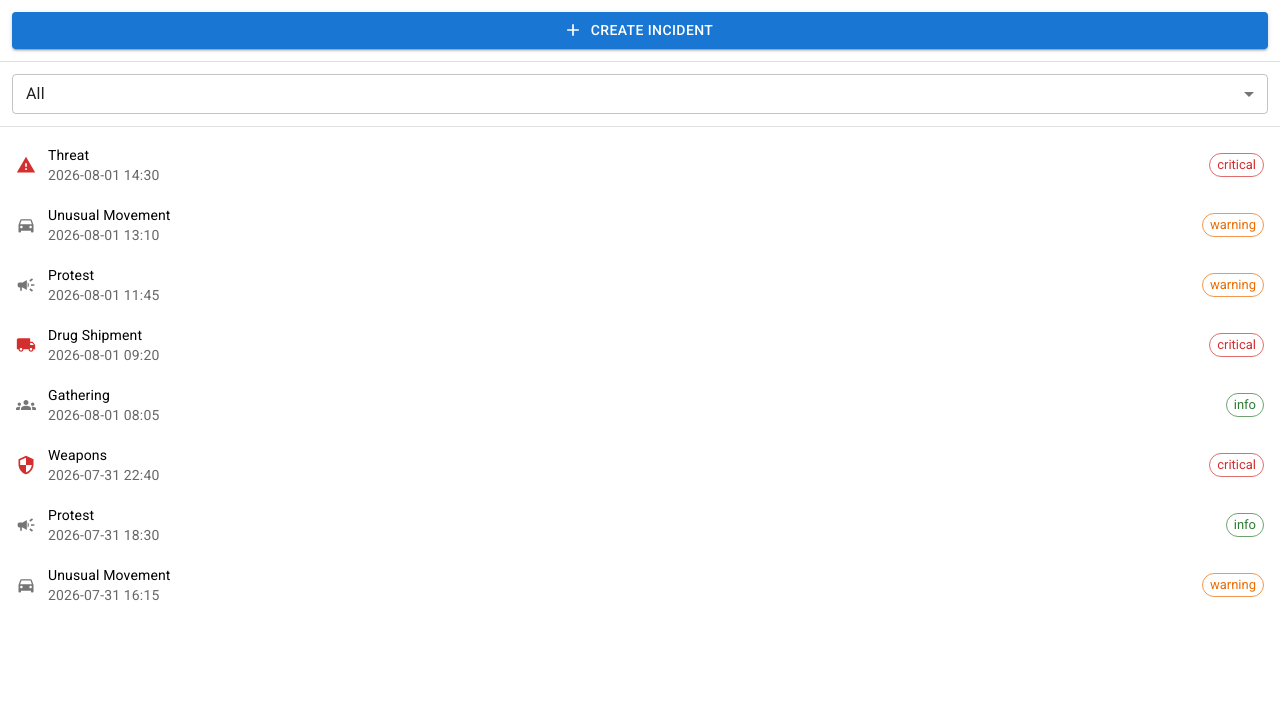
it: IncidentPanel › filters incidents by severity
Press the mouse on the dropdown named "Severity filter": (35, 94) [26,84,45,103]
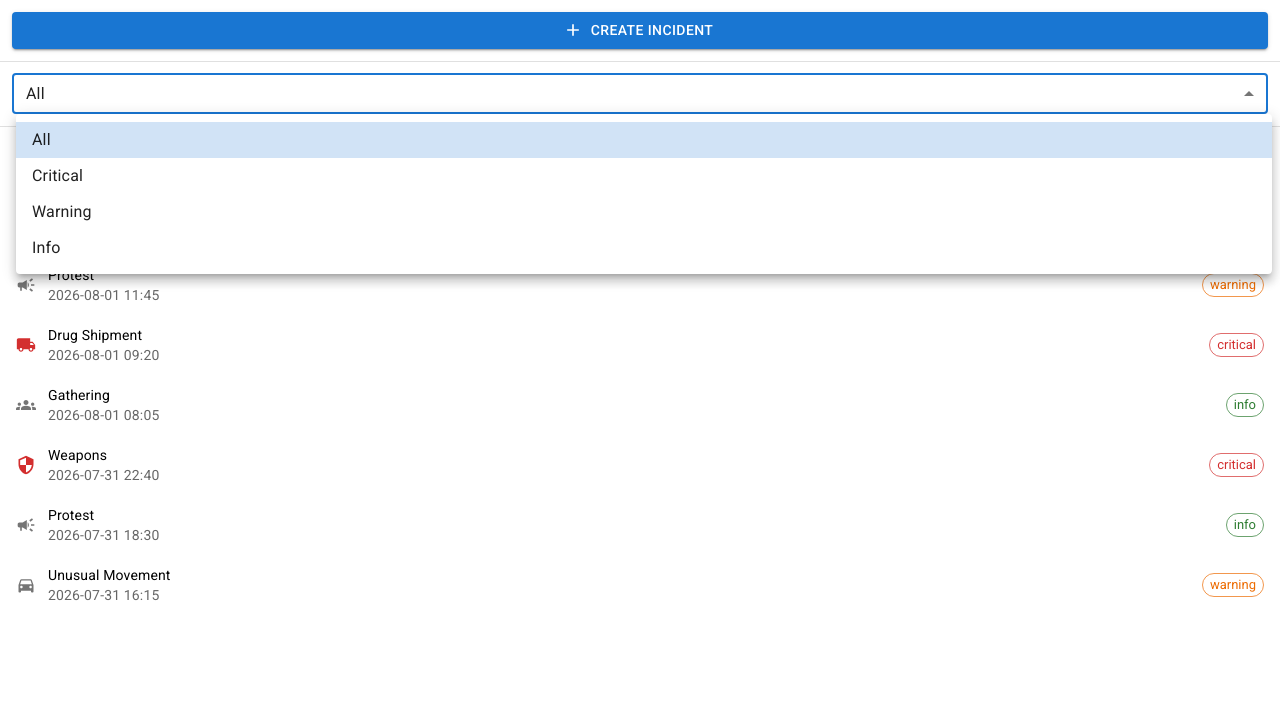
Click the option "Critical": (58, 176) [32,166,83,185]
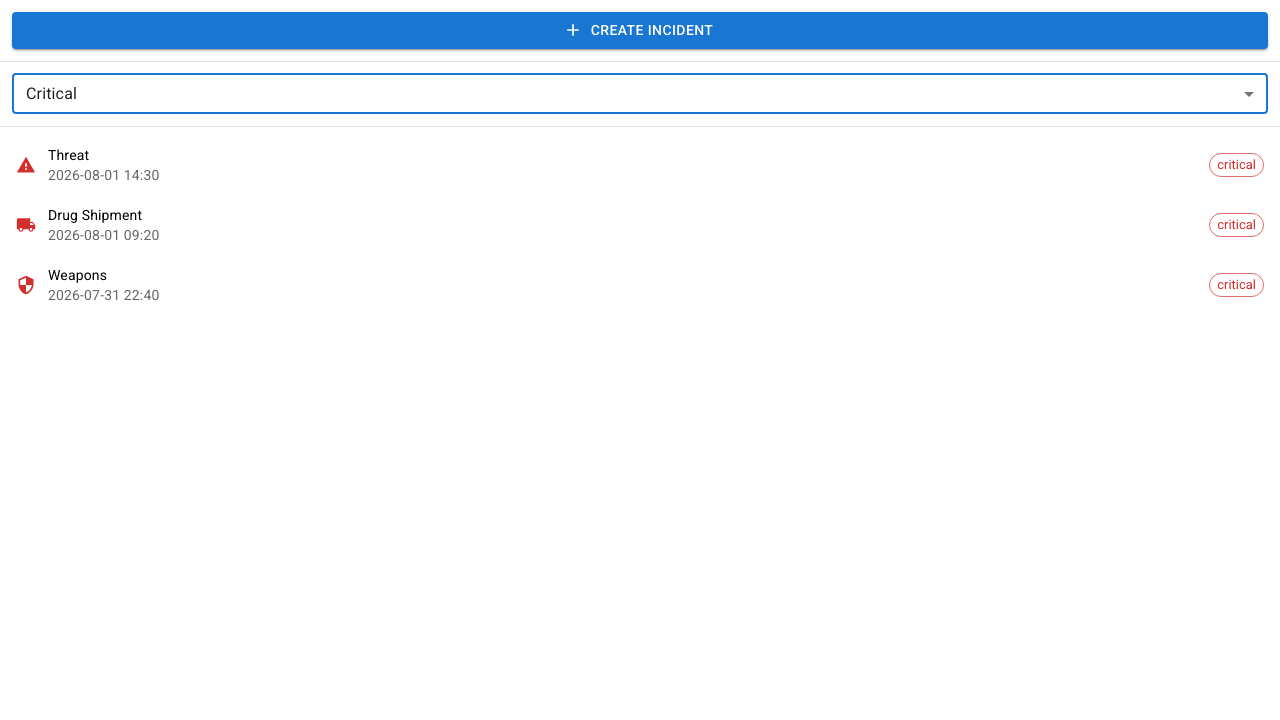
Expected: the text "Threat" is shown, [48,146,89,162]
Expected: the button "Protest" is gone
